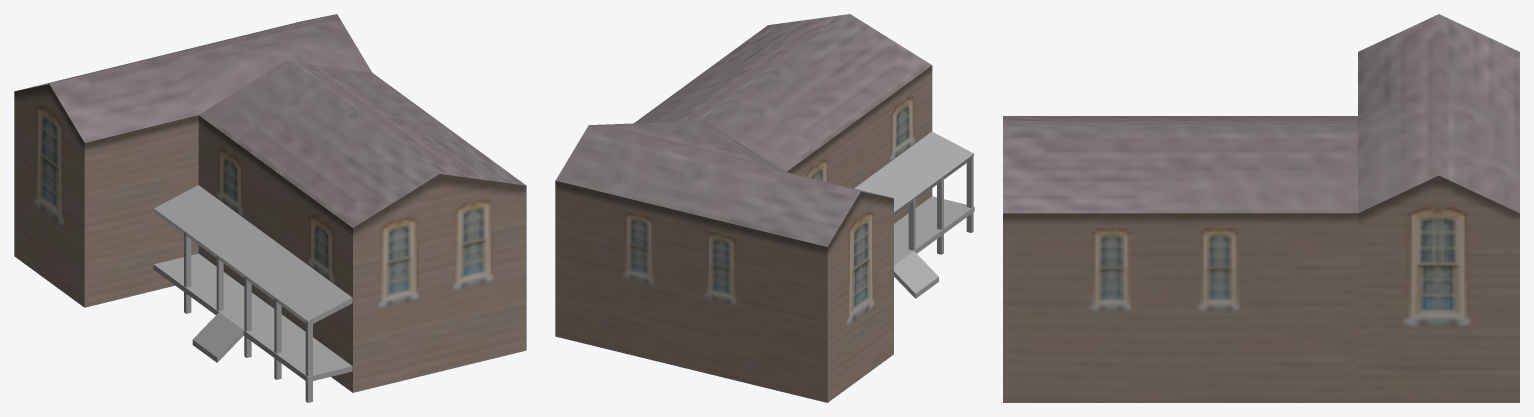
File: UniqueHouse.fbx
3 renders of one model, left to right at view 1: azimuth 30°, elevation 25°; view 2: azimuth 150°, elevation 25°; view 3: azimuth 270°, elevation 25°, orthographic. The views are drawn at different scales.
Visible parts, largest first — view 1: pCube11, pasted__pCube12, pCube12, pasted__pasted__pCube13, pCube13, pasted__pCube14, pasted__pasted__pCube14; view 2: pCube11, pasted__pCube12, pCube12, pasted__pasted__pCube13, pasted__pCube14, pCube13; view 3: pCube11.
Part boxes in pixels (box(x1,y1,x2,y2)): pCube11: box(14, 14, 526, 392); pasted__pCube12: box(154, 185, 352, 325); pCube12: box(153, 253, 352, 382); pasted__pasted__pCube13: box(305, 321, 312, 402); pCube13: box(244, 276, 251, 357); pasted__pCube14: box(274, 298, 281, 379); pasted__pasted__pCube14: box(184, 232, 191, 313); pCube11: box(555, 14, 932, 402); pasted__pCube12: box(854, 131, 973, 215); pCube12: box(894, 196, 974, 298); pasted__pasted__pCube13: box(966, 156, 973, 232); pasted__pCube14: box(937, 177, 943, 254); pCube13: box(908, 198, 915, 250); pCube11: box(1003, 14, 1519, 402).
Bounding box in the file's own units: 71.31 × 46.85 × 96.46.
